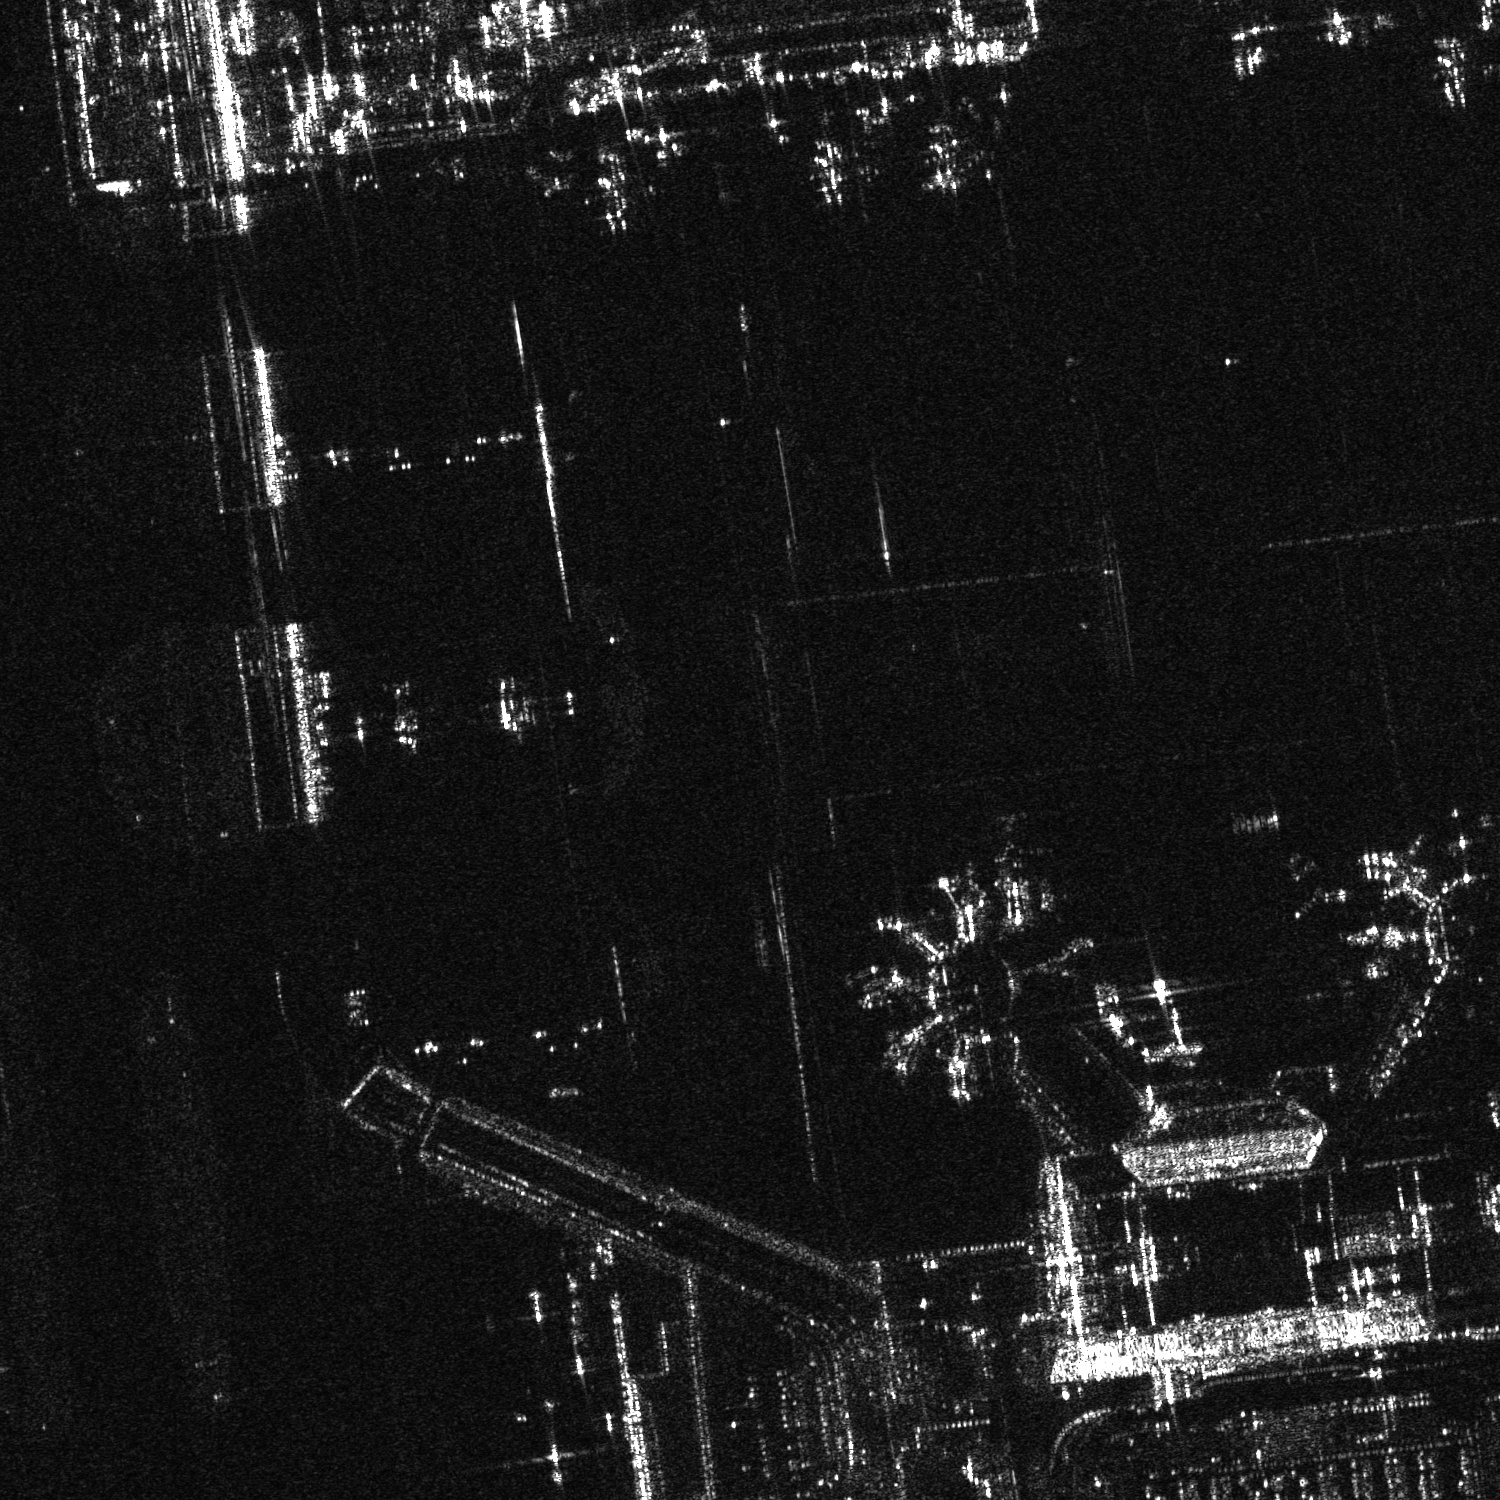A220: (1304, 968, 1363, 1014)
Boeing787: (556, 146, 663, 236), (1411, 32, 1495, 109), (795, 132, 864, 205), (918, 124, 977, 194)
